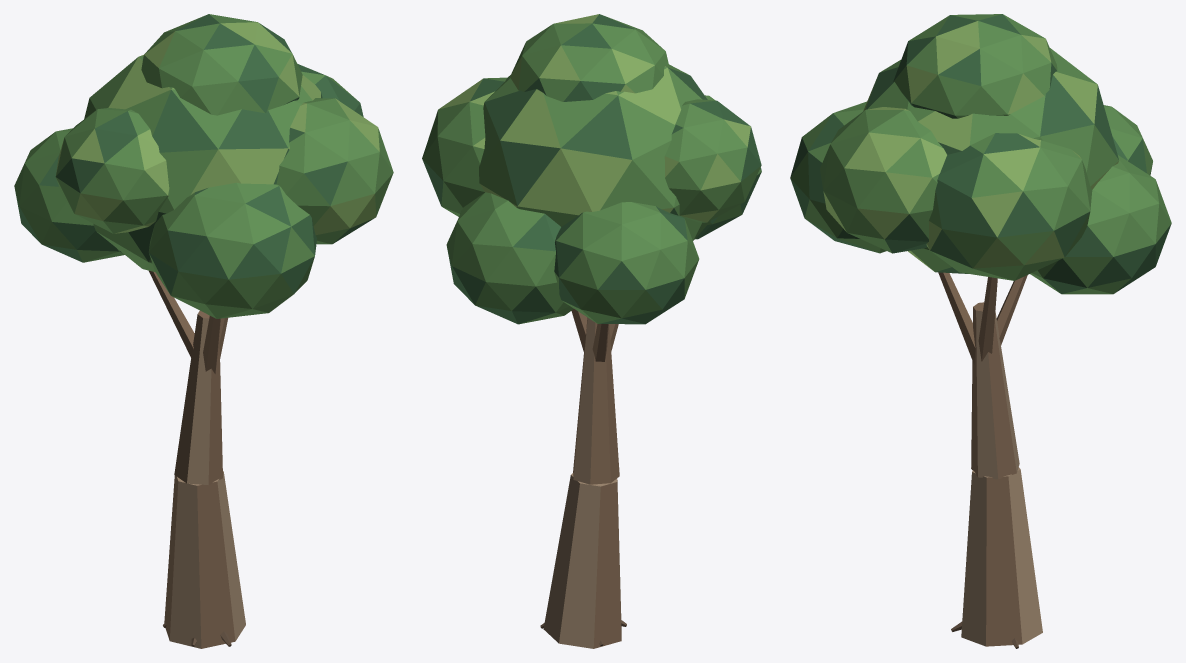
The model's file is tree_oak_03.glb.
The picture shows the model from 3 angles, left to right: view 1: azimuth 30°, elevation 25°; view 2: azimuth 150°, elevation 25°; view 3: azimuth 270°, elevation 25°; orthographic projection. The views are drawn at different scales.
Visible parts, largest first — view 1: tree_oak_03; view 2: tree_oak_03; view 3: tree_oak_03.
Part boxes in pixels (box(x1,y1,x2,y2)): tree_oak_03: box(14, 14, 393, 648); tree_oak_03: box(422, 14, 761, 648); tree_oak_03: box(790, 14, 1171, 648).
Bounding box in the file's own units: 3.55 × 6.77 × 3.81.
